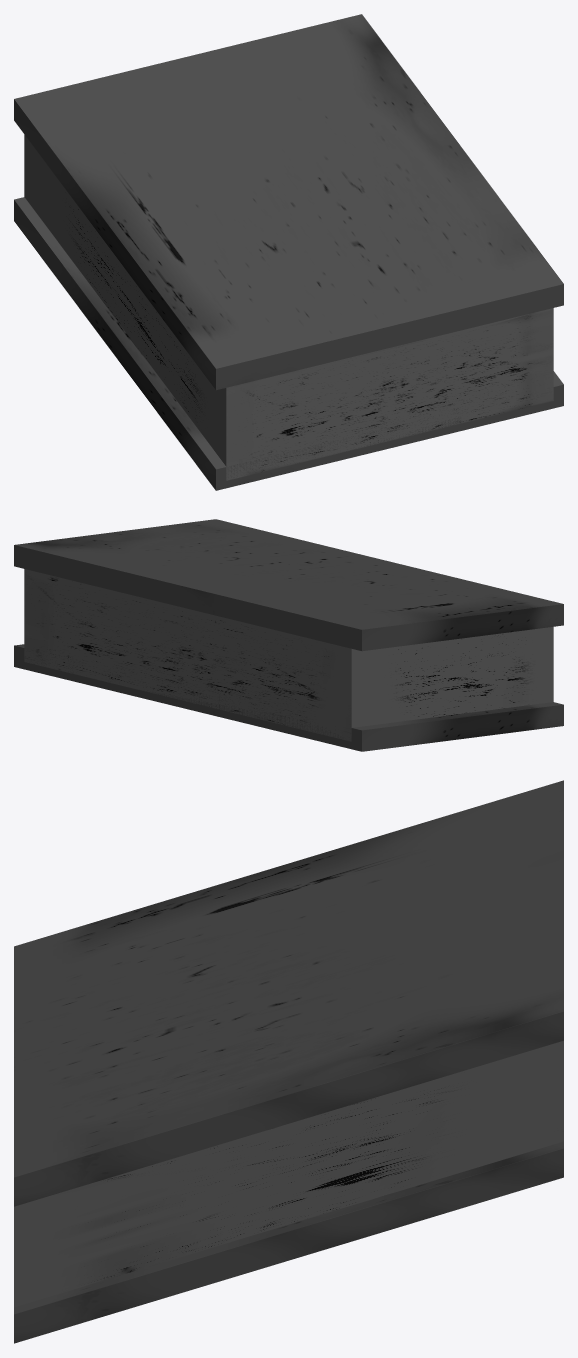
Rendered from Platform_3x3_Ramp_V1.fbx.
The picture shows the model from 3 angles, top to bottom: view 1: azimuth 30°, elevation 25°; view 2: azimuth 150°, elevation 25°; view 3: azimuth 270°, elevation 25°; orthographic projection. The views are drawn at different scales.
Visible parts, largest first — view 1: Platform 3x3 Ramp V1; view 2: Platform 3x3 Ramp V1; view 3: Platform 3x3 Ramp V1.
Boxes of the visible parts, x1,y1,x2,y2 form: Platform 3x3 Ramp V1: [14, 14, 563, 490]; Platform 3x3 Ramp V1: [14, 519, 563, 751]; Platform 3x3 Ramp V1: [14, 780, 563, 1343].
Bounding box in the file's own units: 298 × 200 × 300.
